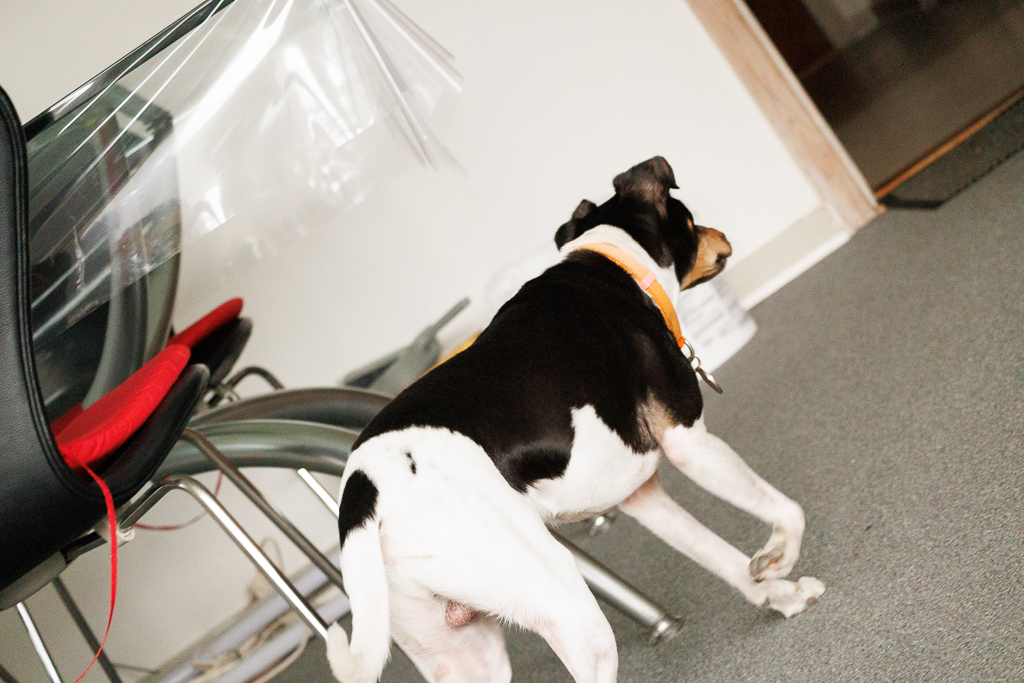Dog: (318, 144, 840, 683)
